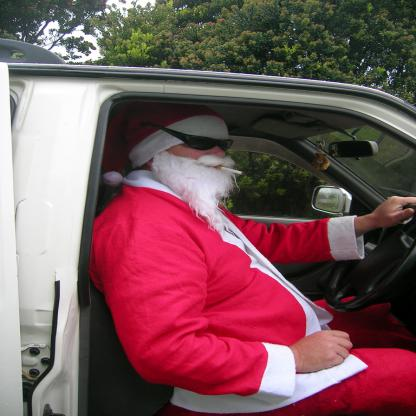Car: (0, 46, 415, 400)
